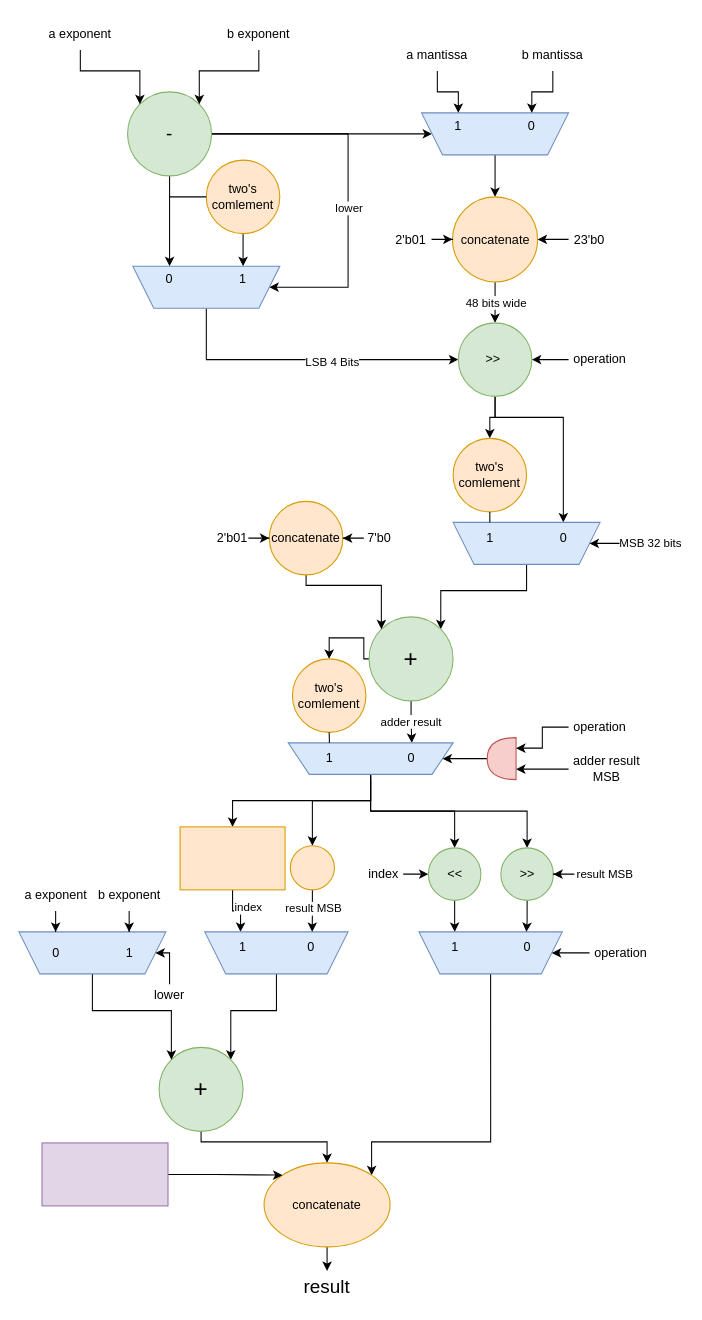
The diagram is 702 pixels wide and 1320 high, and some of its shapes have lost their labels. The shapes that lost their labels are listed below. From the top down, each one's centre as x and y in pixels, then its label:
At (x=232, y=858): "Priority Encoder".
At (x=311, y=867): "MSB".
At (x=104, y=1174): "sign logic".
